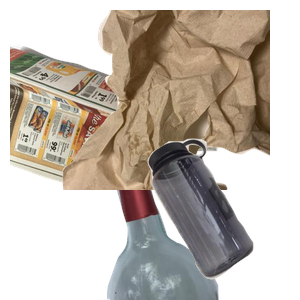glass: (83, 120, 294, 300)
paper: (10, 42, 224, 222)
plastic: (145, 136, 300, 300)
trash: (60, 10, 300, 190)
